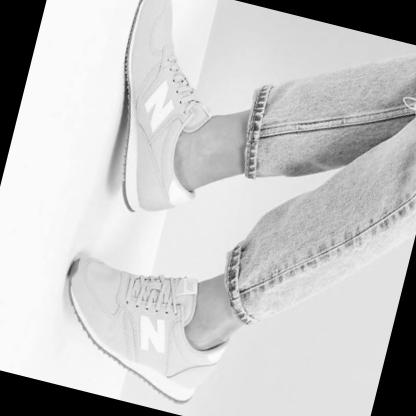ankle: (182, 142, 190, 151), (196, 328, 204, 336)
heel: (139, 206, 145, 213), (199, 380, 204, 387)
left_foot: (45, 250, 237, 412)
pinky: (79, 295, 87, 304), (168, 5, 173, 11)
right_foot: (88, 1, 229, 223)
toe: (148, 6, 154, 17), (88, 259, 96, 265)
